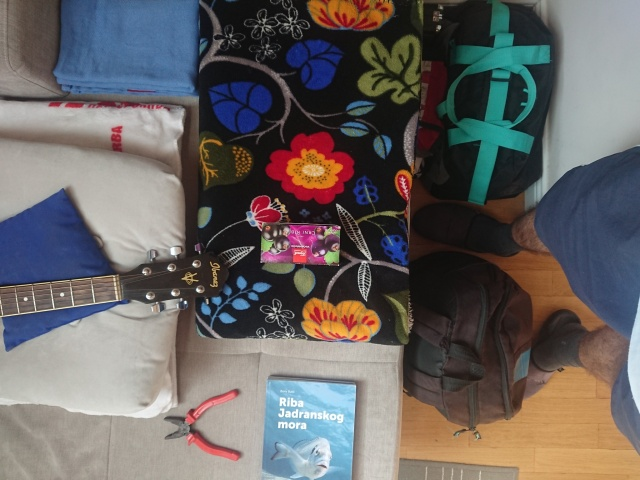Franck Black Currant Tea 60g: (258, 220, 342, 268)
